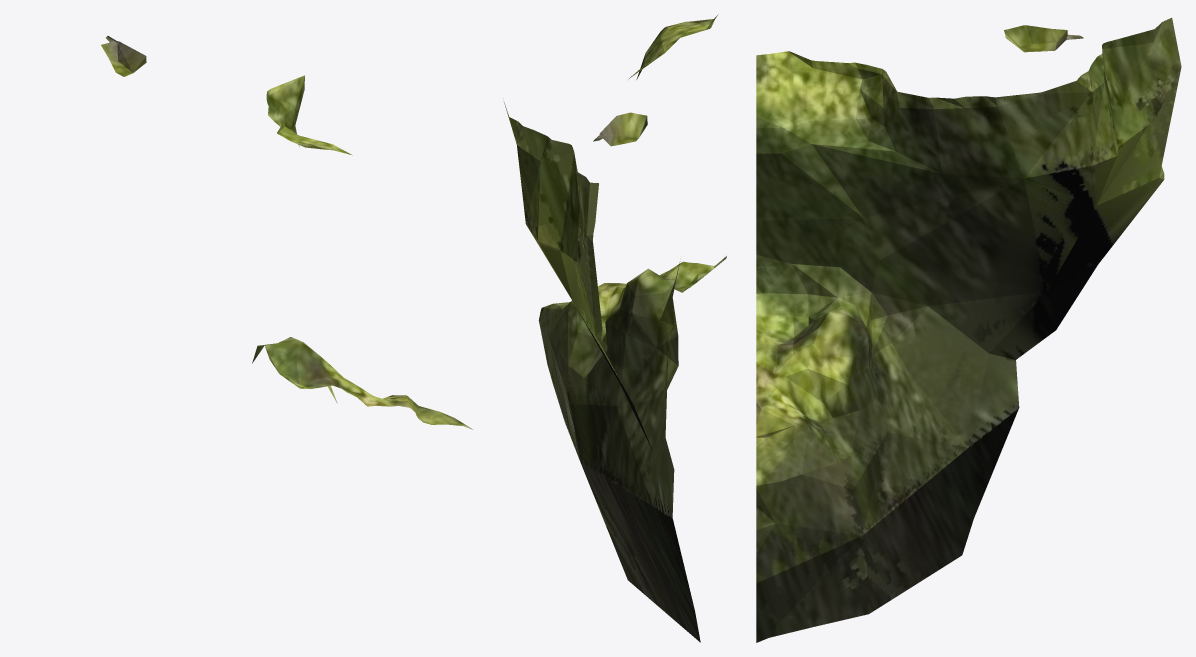
The picture shows the model from 3 angles, left to right: view 1: azimuth 30°, elevation 25°; view 2: azimuth 150°, elevation 25°; view 3: azimuth 270°, elevation 25°; orthographic projection. The views are drawn at different scales.
Size of the model in its own units: 1.51 by 2.95 by 2.1.
Materials: 2 (2 with a texture image).
